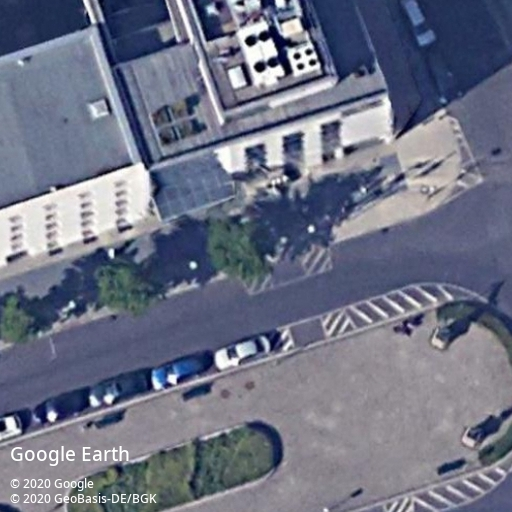Chiller: (237, 22, 285, 84), (288, 43, 321, 76)
